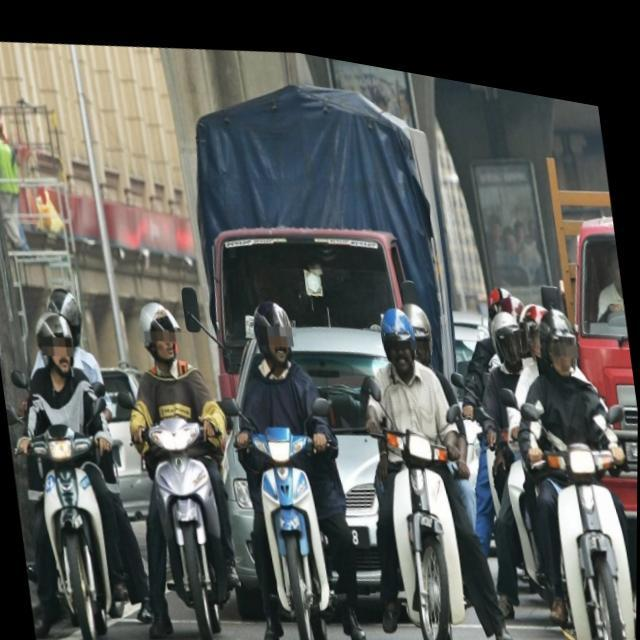Helmet: (28, 312, 78, 382), (136, 298, 185, 364), (379, 305, 421, 379)
